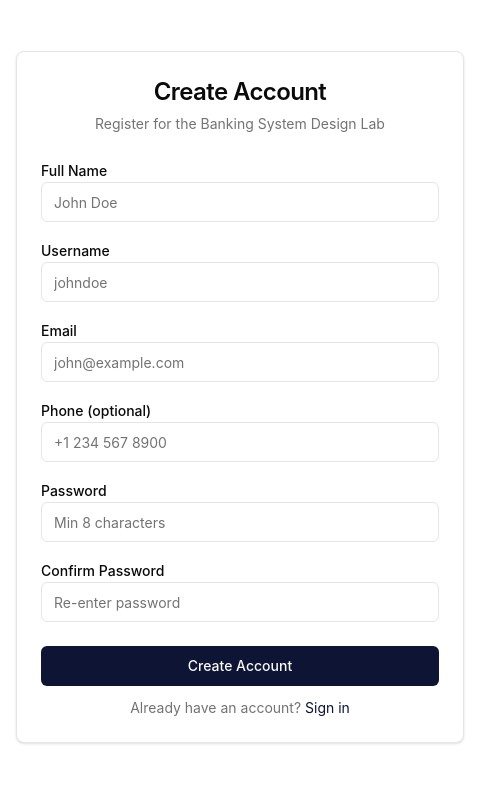
Scenario: RegisterPage › shows error when password is too short
Type "Test User" into the field labelled "Full Name" at (240, 202), box [41,182,439,222]
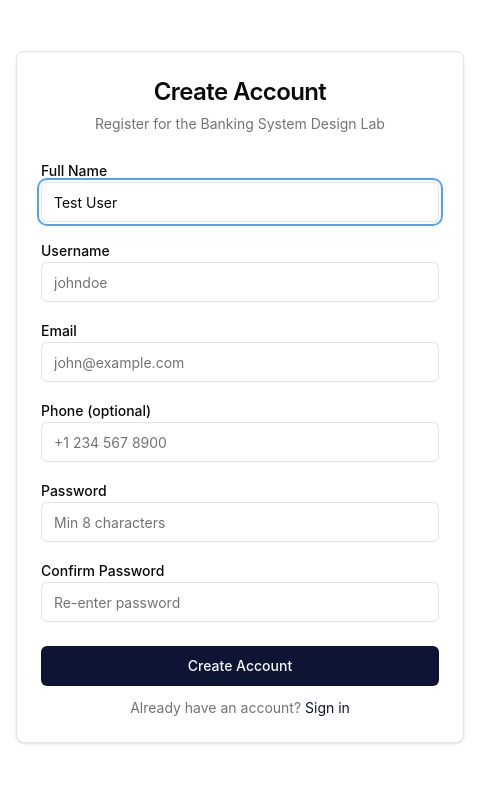
Type "testuser" into the field labelled "Username" at (240, 282), box [41,262,439,302]
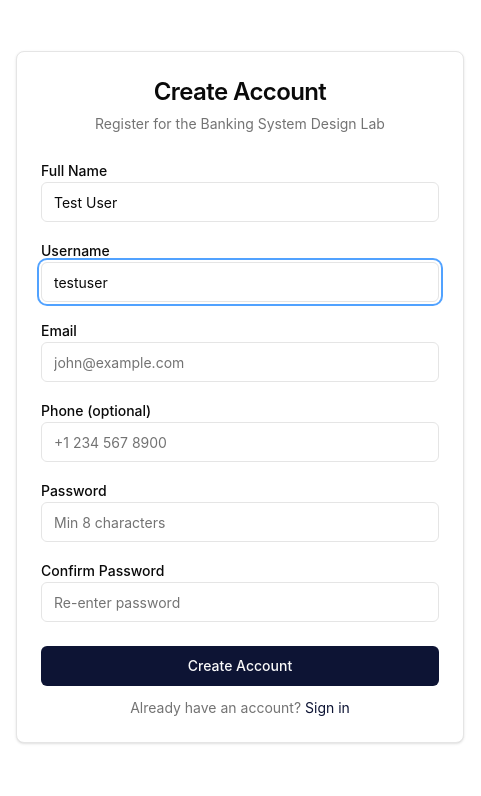
Type "test@example.com" into the field labelled "Email" at (240, 362), box [41,342,439,382]
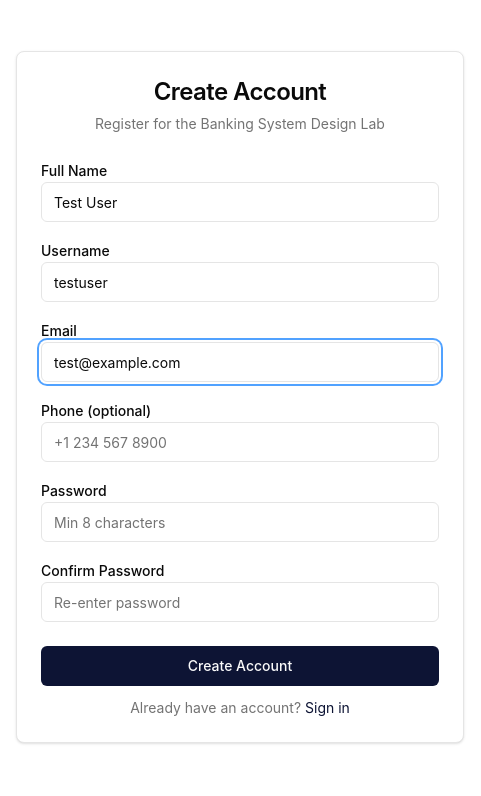
Type "short" into the password field labelled "Password" at (240, 522), box [41,502,439,542]
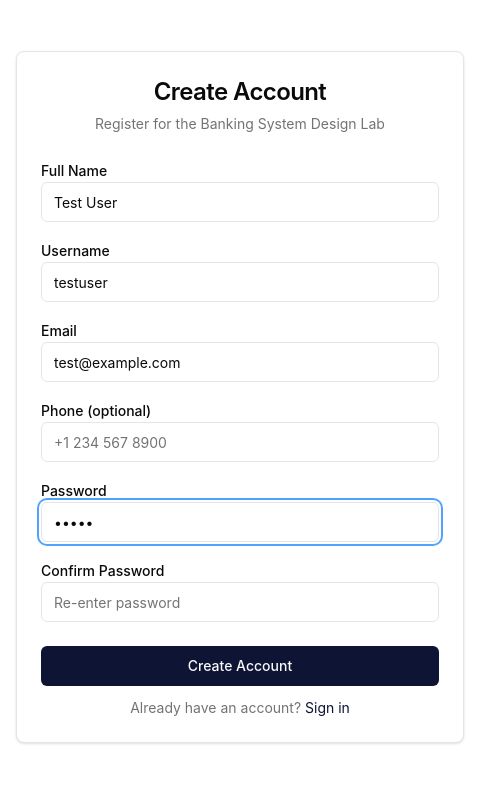
Type "short" into the password field labelled "Confirm Password" at (240, 602), box [41,582,439,622]
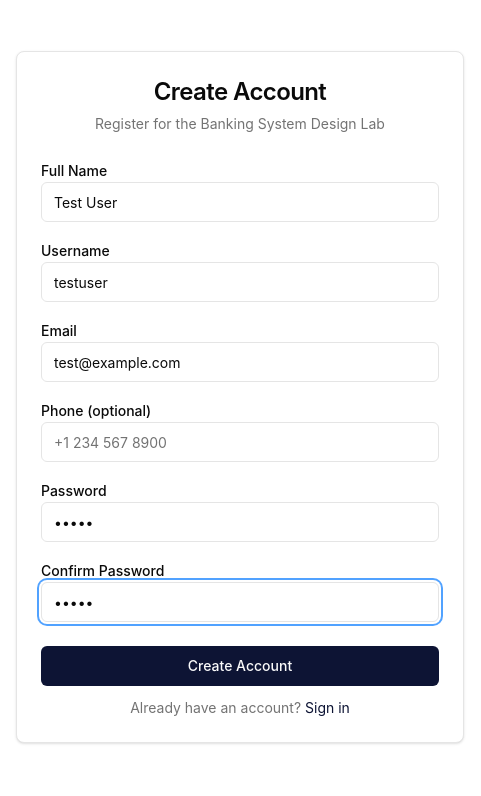
Click the button "Create Account" at (240, 666), box [41,646,439,686]
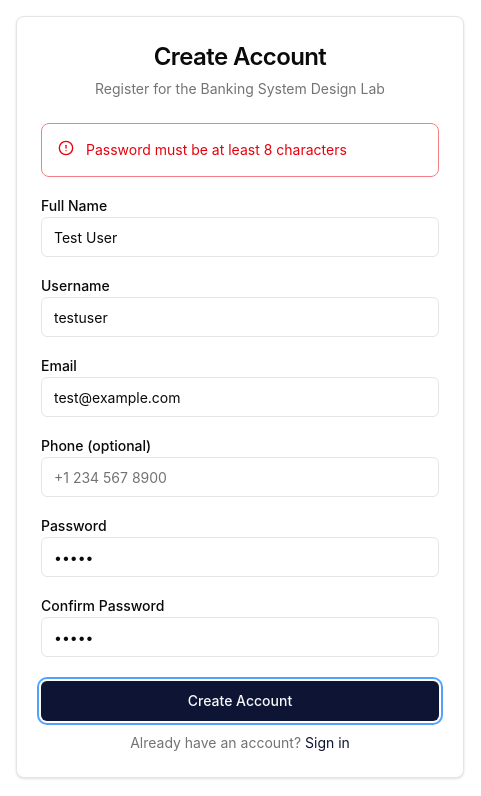
Expected: the text "Password must be at least 8 characters" is shown, [86,141,347,158]
